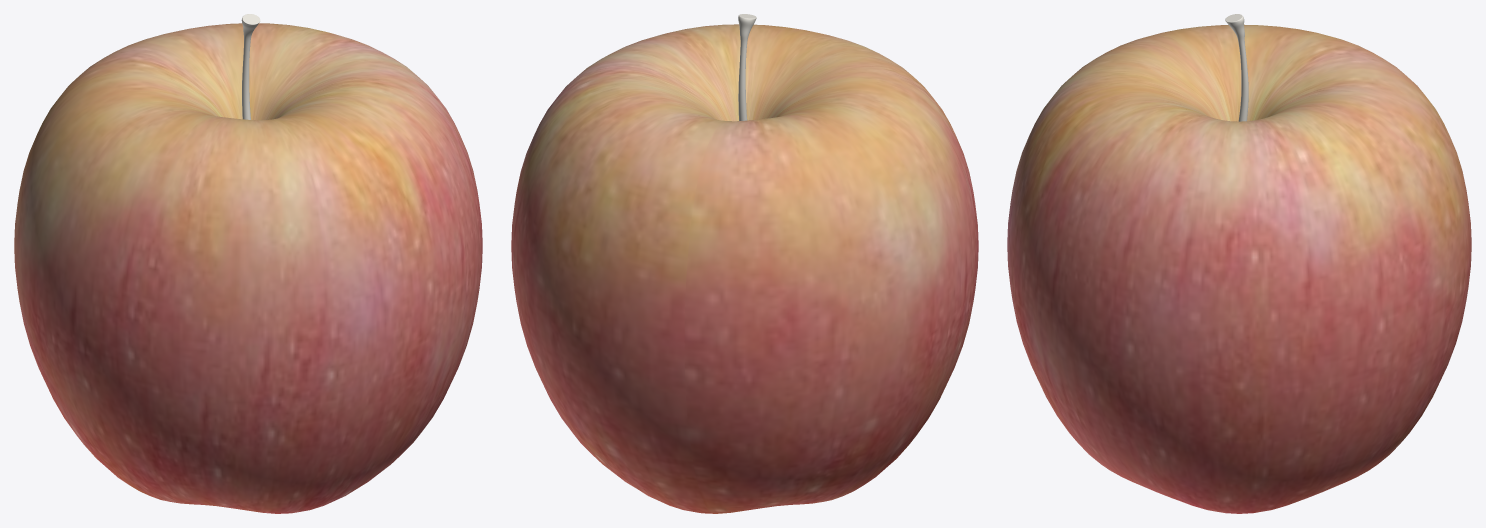
File: SM_RedApple.fbx
3 renders of one model, left to right at view 1: azimuth 30°, elevation 25°; view 2: azimuth 150°, elevation 25°; view 3: azimuth 270°, elevation 25°, orthographic.
Visible parts, largest first — view 1: ApplePeel, AppleStalk; view 2: ApplePeel, AppleStalk; view 3: ApplePeel, AppleStalk.
Boxes of the visible parts, x1=… form: ApplePeel: x1=14, y1=23, x2=482, y2=513; AppleStalk: x1=241, y1=14, x2=260, y2=119; ApplePeel: x1=511, y1=24, x2=978, y2=513; AppleStalk: x1=738, y1=14, x2=756, y2=120; ApplePeel: x1=1007, y1=24, x2=1471, y2=513; AppleStalk: x1=1225, y1=14, x2=1248, y2=121.
Size of what is drawn, in the model's own units: 6.92 by 6.92 by 7.52.
